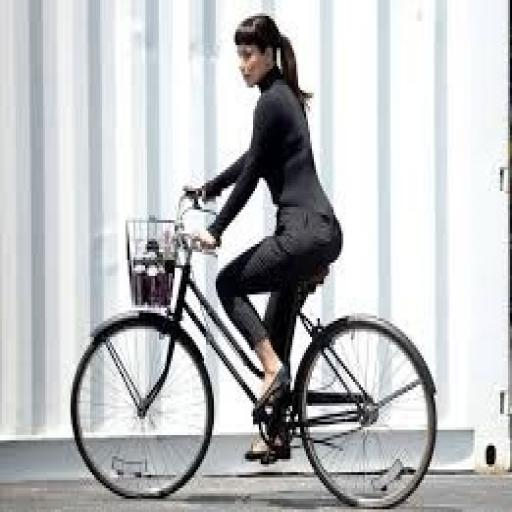cycling: (182, 11, 346, 467)
